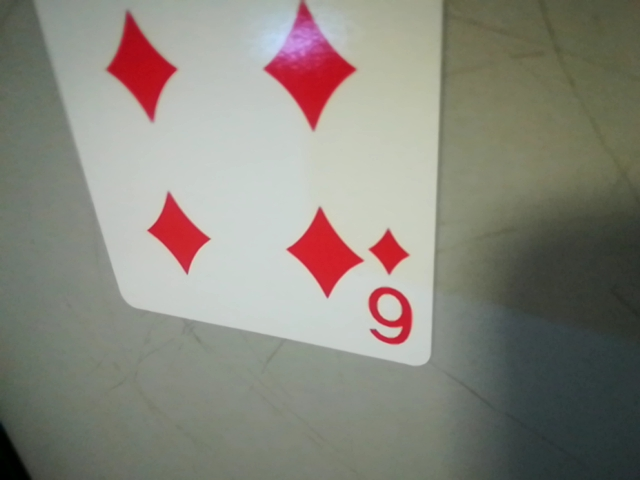fk 6: (355, 221, 428, 353)
